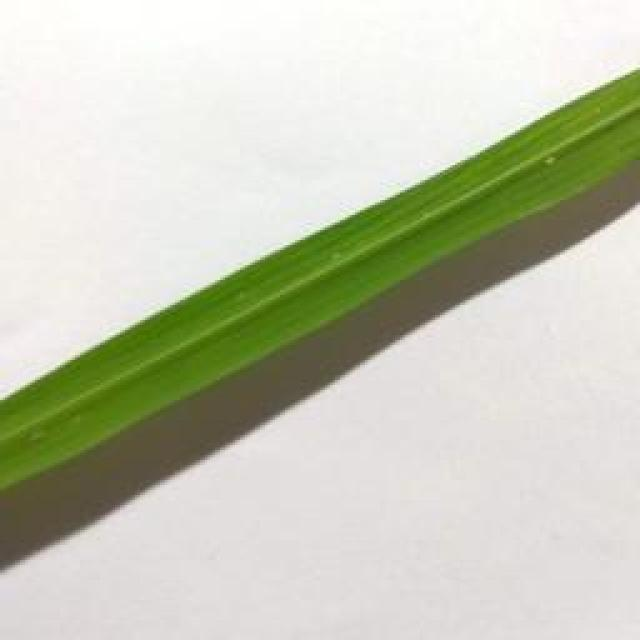Healthy-Plant: (375, 136, 528, 314), (0, 314, 142, 503), (253, 194, 397, 372), (501, 68, 640, 240), (137, 253, 266, 433)
